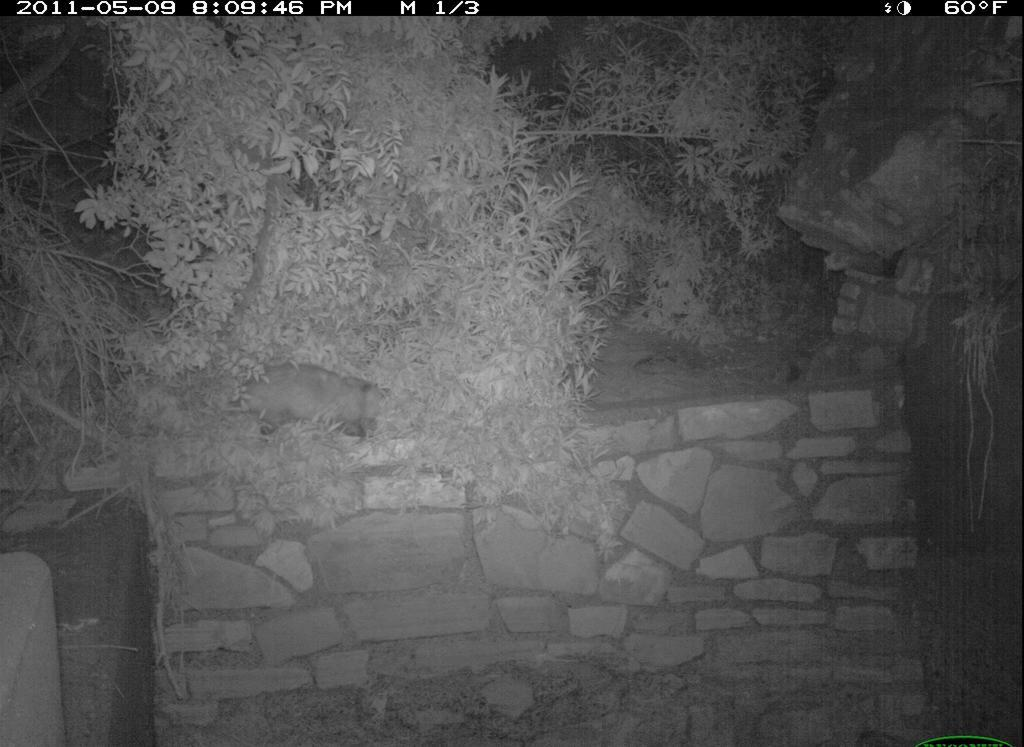opossum: (217, 351, 401, 451)
